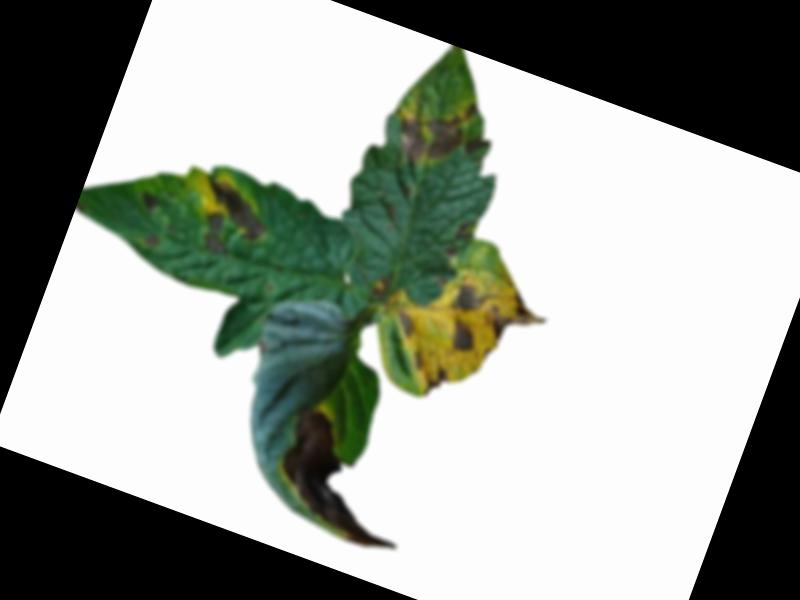Early_blight: (262, 404, 431, 558), (388, 81, 481, 181), (184, 173, 278, 268), (477, 282, 558, 356), (446, 278, 488, 319), (444, 316, 484, 358), (442, 218, 475, 263), (418, 364, 452, 403), (462, 131, 493, 162), (389, 310, 419, 341), (138, 189, 162, 214), (409, 350, 428, 375), (372, 274, 390, 299), (142, 234, 162, 250)
